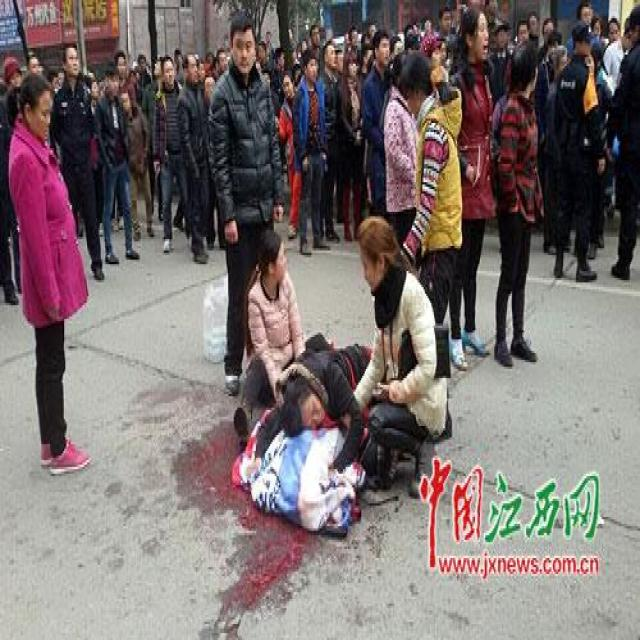10-: (0, 0, 639, 474)
down: (274, 317, 390, 419)
